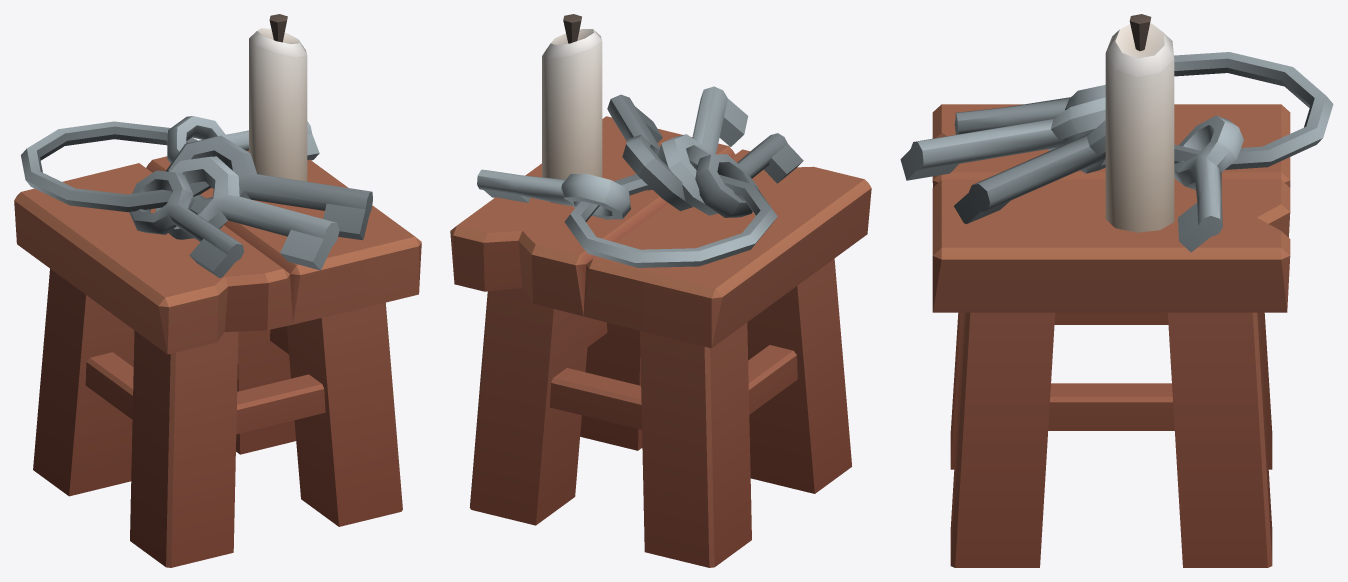
The model's file is table_small_decorated_A.gltf.
The picture shows the model from 3 angles, left to right: view 1: azimuth 30°, elevation 25°; view 2: azimuth 150°, elevation 25°; view 3: azimuth 270°, elevation 25°; orthographic projection. The views are drawn at different scales.
Visible parts, largest first — view 1: table_small_decorated_A; view 2: table_small_decorated_A; view 3: table_small_decorated_A.
Boxes of the visible parts, x1=… form: table_small_decorated_A: x1=14, y1=14, x2=421, y2=567; table_small_decorated_A: x1=450, y1=14, x2=871, y2=567; table_small_decorated_A: x1=900, y1=14, x2=1333, y2=567.
Bounding box in the file's own units: 1.04 × 1.62 × 1.21.
1 material, 1 textured.
